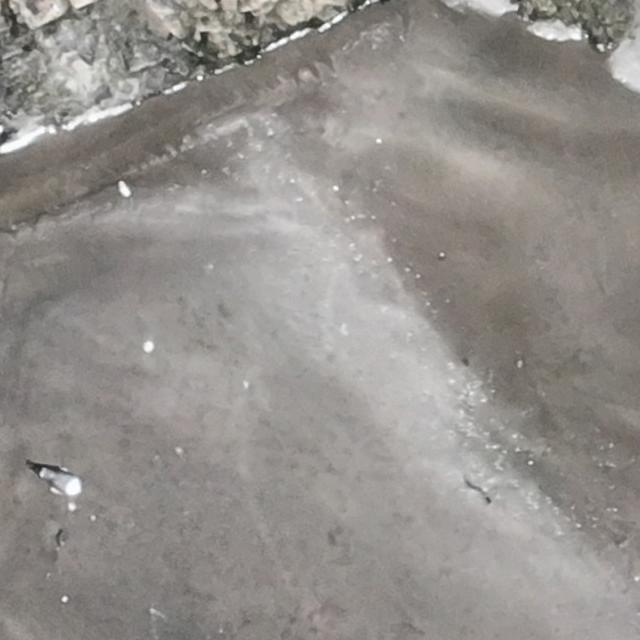umineko: (44, 471, 80, 494)
